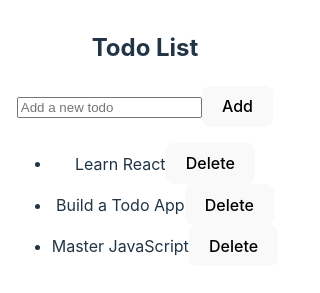
Test: adds a new todo
Type "Test new todo" into the field with placeholder "Add a new todo" at (109, 108), box [17,97,202,118]
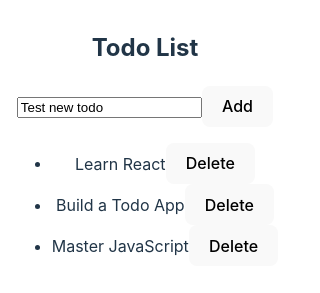
Click the button "Add" at (238, 106), box [202,86,273,127]
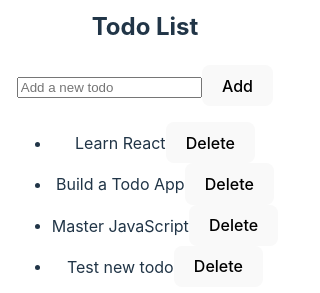
Result: the text "Test new todo" is shown at [67,256,174,276]
